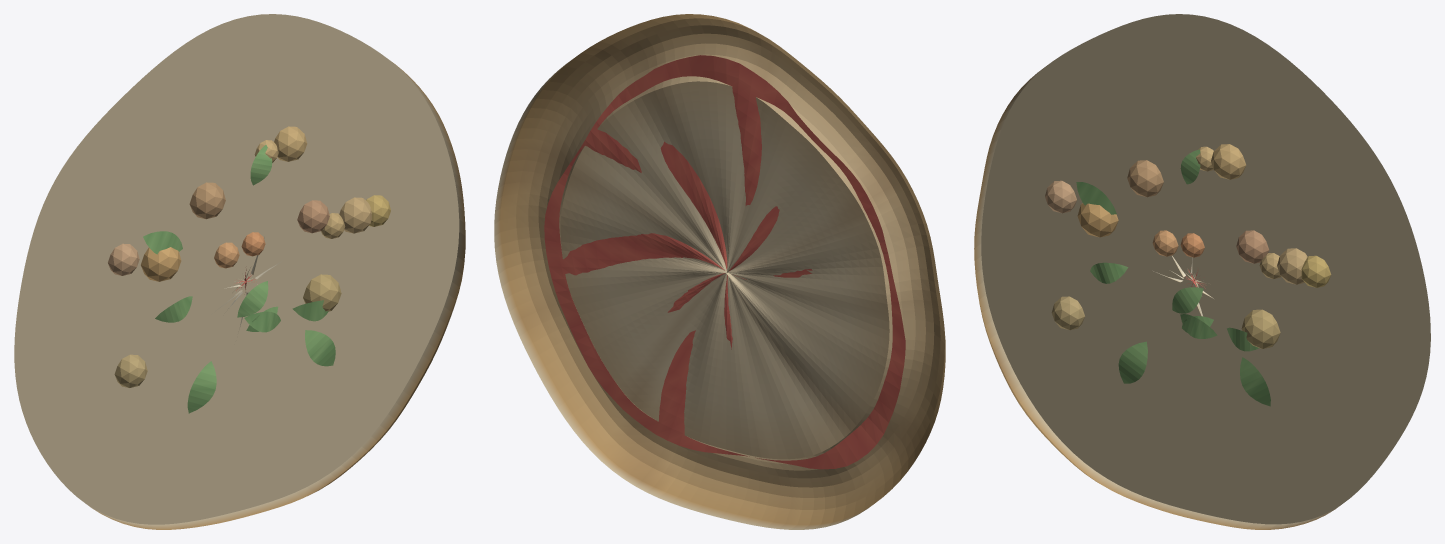
File: pizza.glb
3 renders of one model, left to right at view 1: azimuth 30°, elevation 25°; view 2: azimuth 150°, elevation 25°; view 3: azimuth 330°, elevation 25°, orthographic.
Parts seen in each view (by area): view 1: Crust_Dough, Toasted_Spots, Basil_Leaves; view 2: Crust_Dough, Tomato_Sauce; view 3: Crust_Dough, Toasted_Spots, Basil_Leaves.
Boxes of the visible parts, x1,y1,x2,y2 form: Crust_Dough: (14,14,465,529); Toasted_Spots: (108,126,390,387); Basil_Leaves: (143,145,335,413); Crust_Dough: (494,14,945,529); Tomato_Sauce: (544,55,905,469); Crust_Dough: (974,14,1430,529); Toasted_Spots: (1045,144,1331,348); Basil_Leaves: (1076,149,1270,406).
Bounding box in the file's own units: 0.2822 × 0.2986 × 0.0275.
